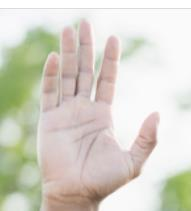down: (32, 17, 160, 195)
